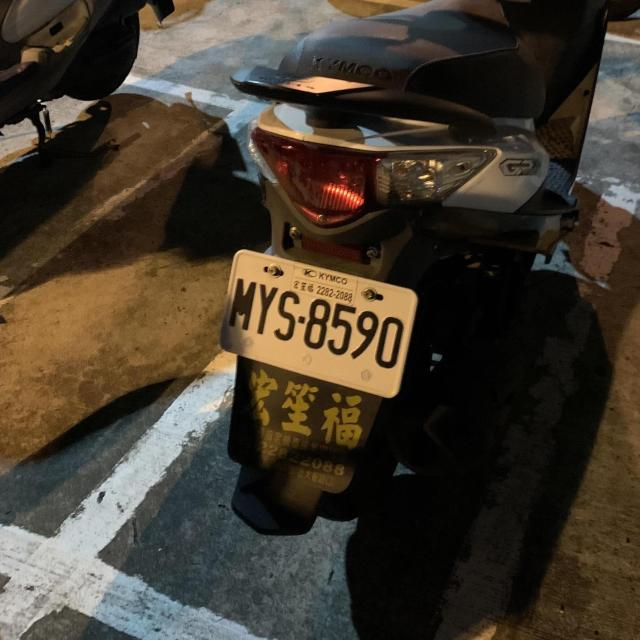W: (209, 239, 427, 406)
